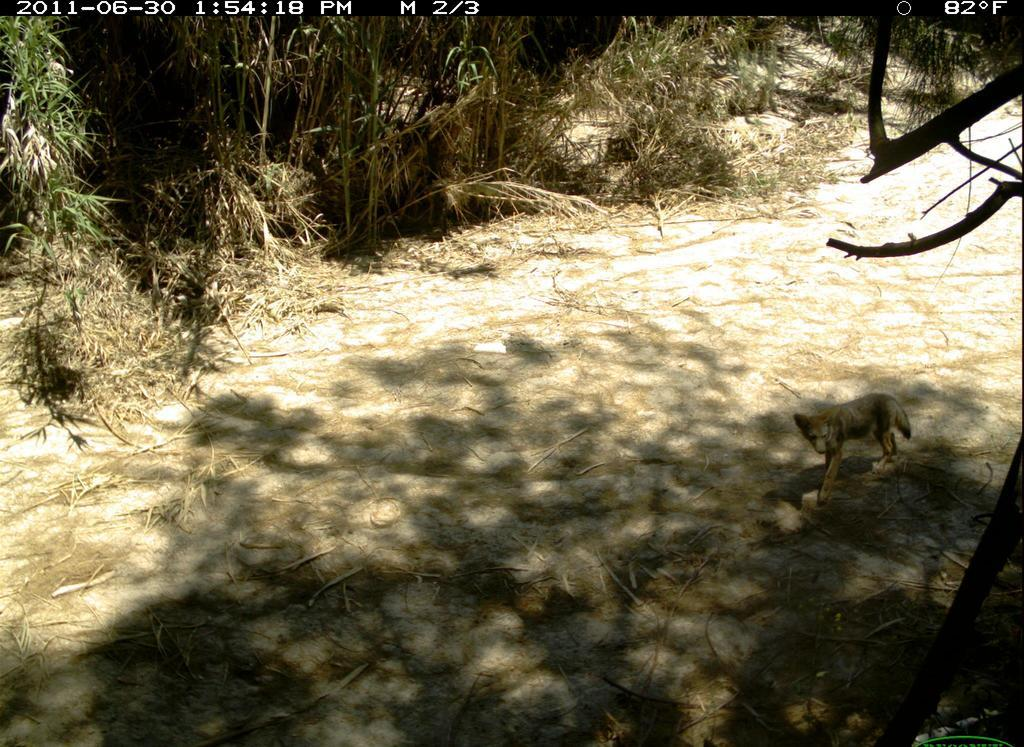coyote: (793, 392, 913, 509)
